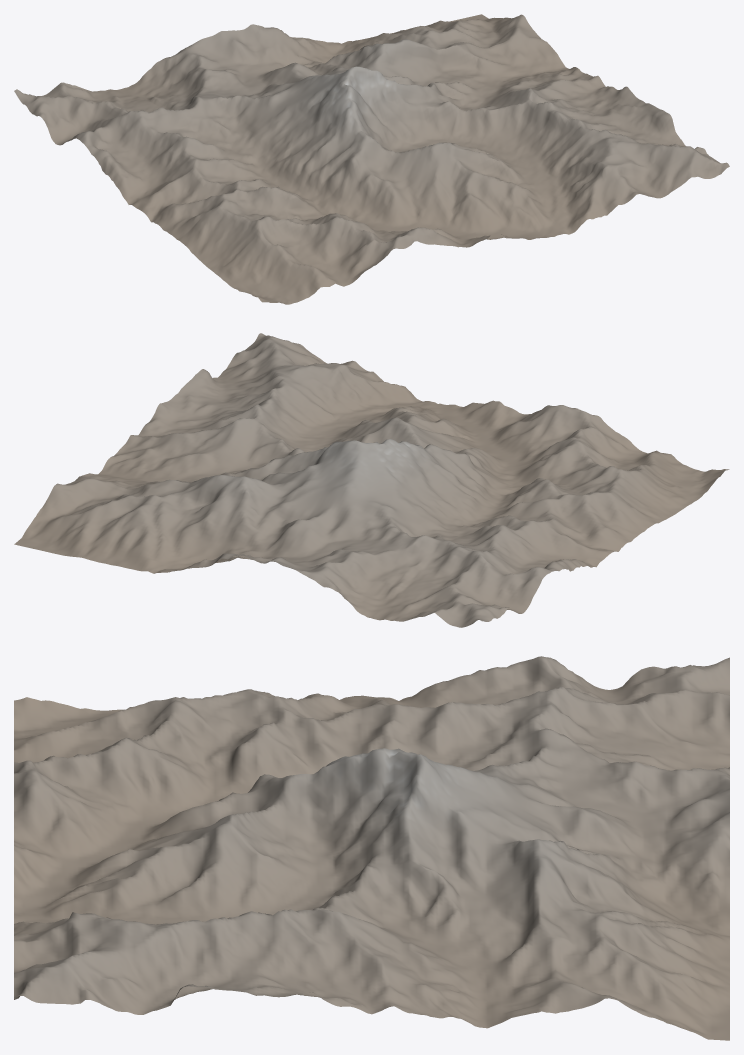
The model's file is distant-aconcagua-dem.glb.
3 views of the same model, one above another, from view 1: azimuth 30°, elevation 25°; view 2: azimuth 150°, elevation 25°; view 3: azimuth 270°, elevation 25° (orthographic). The views are drawn at different scales.
Visible parts, largest first — view 1: HORCONES_COPERNICUS_OFFLINE_CANDIDATE; view 2: HORCONES_COPERNICUS_OFFLINE_CANDIDATE; view 3: HORCONES_COPERNICUS_OFFLINE_CANDIDATE.
Part boxes in pixels (x1,y1,x2,y2): HORCONES_COPERNICUS_OFFLINE_CANDIDATE: (14, 14, 729, 304); HORCONES_COPERNICUS_OFFLINE_CANDIDATE: (14, 333, 729, 627); HORCONES_COPERNICUS_OFFLINE_CANDIDATE: (14, 656, 729, 1040).
Bounding box in the file's own units: 20591 × 3550 × 18924.
